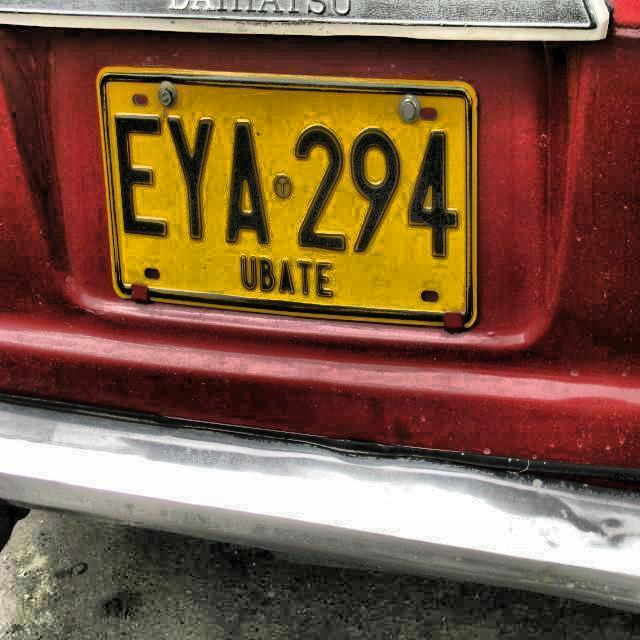plate: (95, 69, 477, 329)
